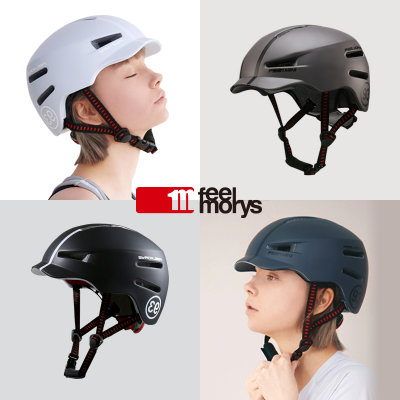with helmet: (24, 13, 171, 156), (233, 214, 370, 341)
